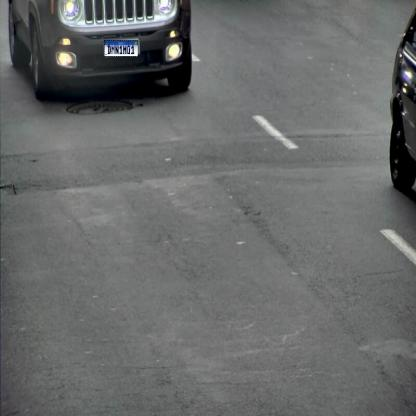PlacaM: (104, 40, 138, 57)
